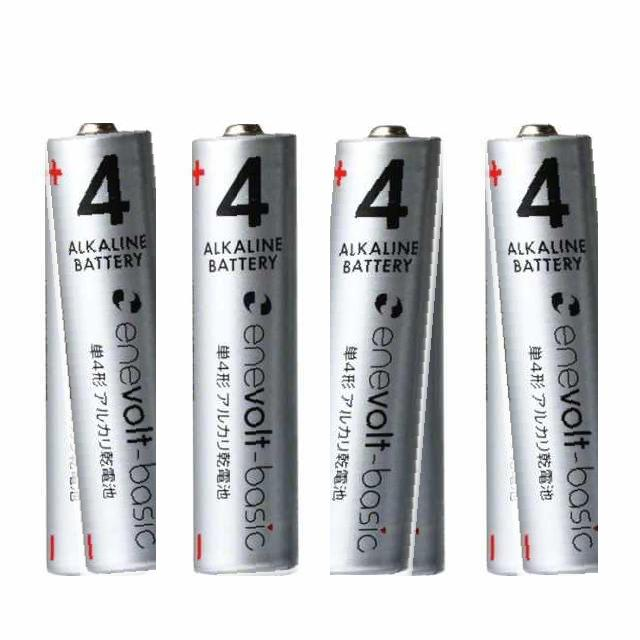battery: (330, 124, 449, 582), (480, 122, 598, 582), (40, 123, 156, 583), (188, 124, 304, 580)
